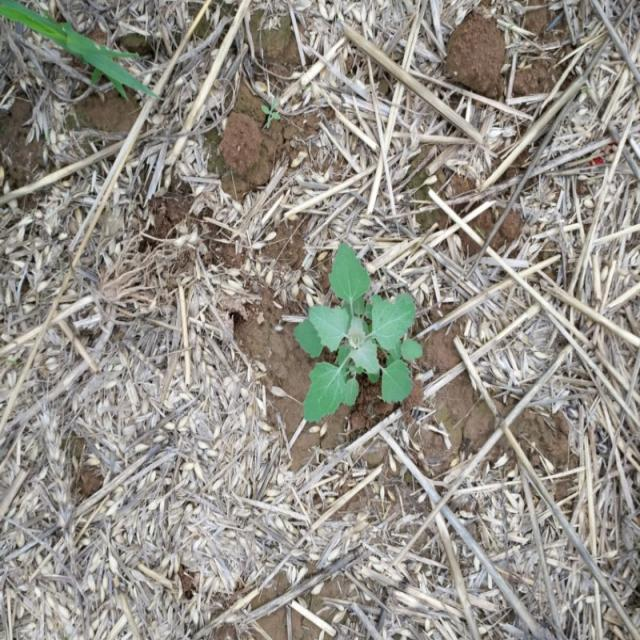goosefoots: (285, 253, 422, 428)
